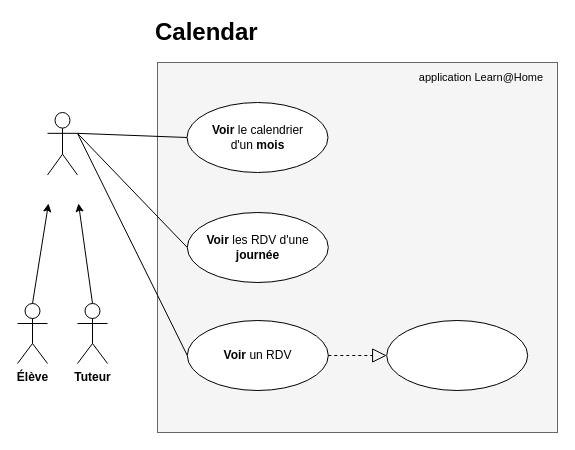
Image size: 575x450. Some labels were removed from this diagram. Here are the shapes that lost their labels. From the top down, the centre of each, then its label:
At pixel 62 143: "Utilisateur".
At pixel 457 355: "Page gestion des tâches".
